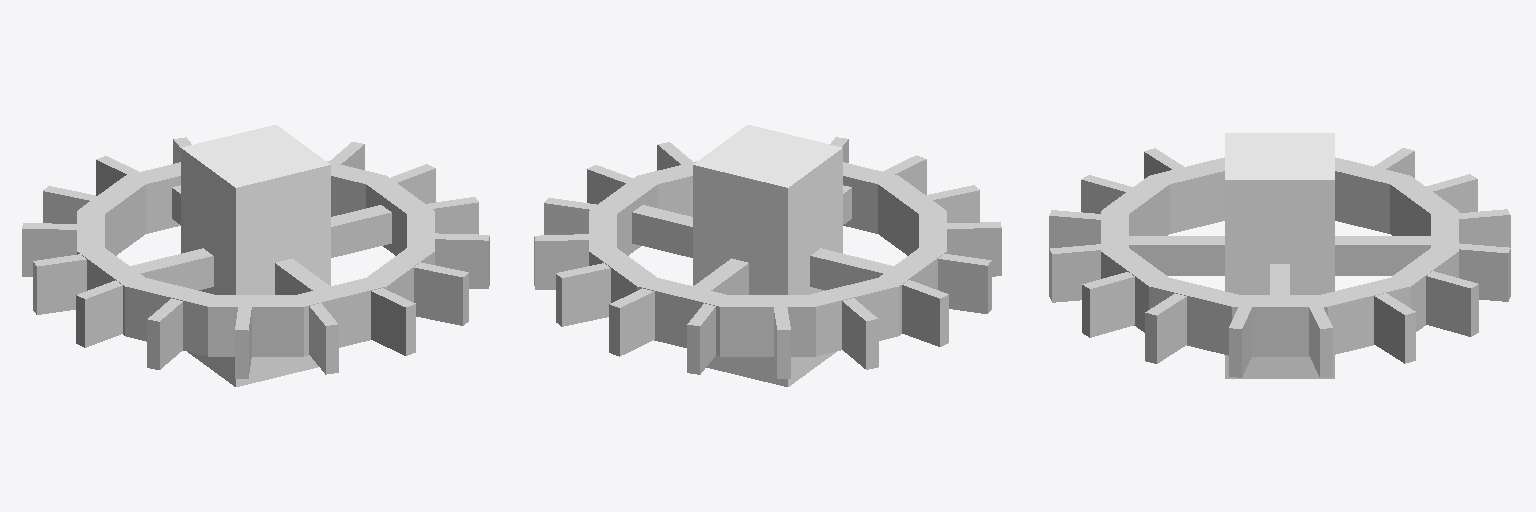
Rendered from large_cogwheel.obj.
3 views of the same model, side by side, from view 1: azimuth 30°, elevation 25°; view 2: azimuth 150°, elevation 25°; view 3: azimuth 270°, elevation 25° (orthographic).
Parts seen in each view (by area): view 1: tube, shaft, Gear17.001, Gear17, Gear15.001, Gear16.002, Gear9, Gear18.000, Gear7, Gear16.000, Gear16.001, Gear18 (+7 smaller); view 2: tube, shaft, Gear15, Gear15.001, Gear17, Gear16, Gear9, Gear14, Gear7, Gear16.000, Gear16.001, Gear14.000 (+7 smaller); view 3: tube, shaft, Gear8, Gear10, Gear15, Gear17.001, Gear16.002, Gear16, Gear14, Gear18.000, Gear18, Gear14.000 (+7 smaller).
Boxes of the visible parts, x1=… form: tube: x1=77, y1=161, x2=434, y2=356; shaft: x1=181, y1=125, x2=330, y2=386; Gear17.001: x1=414, y1=262, x2=468, y2=325; Gear17: x1=33, y1=254, x2=86, y2=314; Gear15.001: x1=76, y1=280, x2=122, y2=347; Gear16.002: x1=371, y1=288, x2=415, y2=355; Gear9: x1=331, y1=205, x2=391, y2=257; Gear18.000: x1=435, y1=233, x2=489, y2=288; Gear7: x1=130, y1=248, x2=213, y2=290; Gear16.000: x1=22, y1=223, x2=76, y2=276; Gear16.001: x1=147, y1=298, x2=182, y2=369; Gear18: x1=309, y1=303, x2=338, y2=374; tube: x1=589, y1=161, x2=946, y2=356; shaft: x1=693, y1=125, x2=842, y2=386; Gear15: x1=556, y1=263, x2=610, y2=326; Gear15.001: x1=938, y1=254, x2=991, y2=313; Gear17: x1=902, y1=280, x2=948, y2=346; Gear16: x1=609, y1=288, x2=654, y2=356; Gear9: x1=632, y1=205, x2=692, y2=257; Gear14: x1=534, y1=234, x2=588, y2=289; Gear7: x1=810, y1=248, x2=893, y2=290; Gear16.000: x1=842, y1=298, x2=878, y2=369; Gear16.001: x1=947, y1=222, x2=1001, y2=276; Gear14.000: x1=687, y1=303, x2=715, y2=374; tube: x1=1101, y1=157, x2=1458, y2=356; shaft: x1=1225, y1=133, x2=1334, y2=378; Gear8: x1=1129, y1=236, x2=1224, y2=275; Gear10: x1=1335, y1=236, x2=1430, y2=275; Gear15: x1=1426, y1=271, x2=1478, y2=336; Gear17.001: x1=1082, y1=272, x2=1134, y2=337; Gear16.002: x1=1049, y1=244, x2=1100, y2=302; Gear16: x1=1459, y1=243, x2=1510, y2=301; Gear14: x1=1374, y1=293, x2=1415, y2=363; Gear18.000: x1=1145, y1=293, x2=1186, y2=363; Gear18: x1=1049, y1=210, x2=1100, y2=248; Gear14.000: x1=1459, y1=209, x2=1510, y2=247.
Size of the model in its own units: 2.1 by 1 by 2.1.